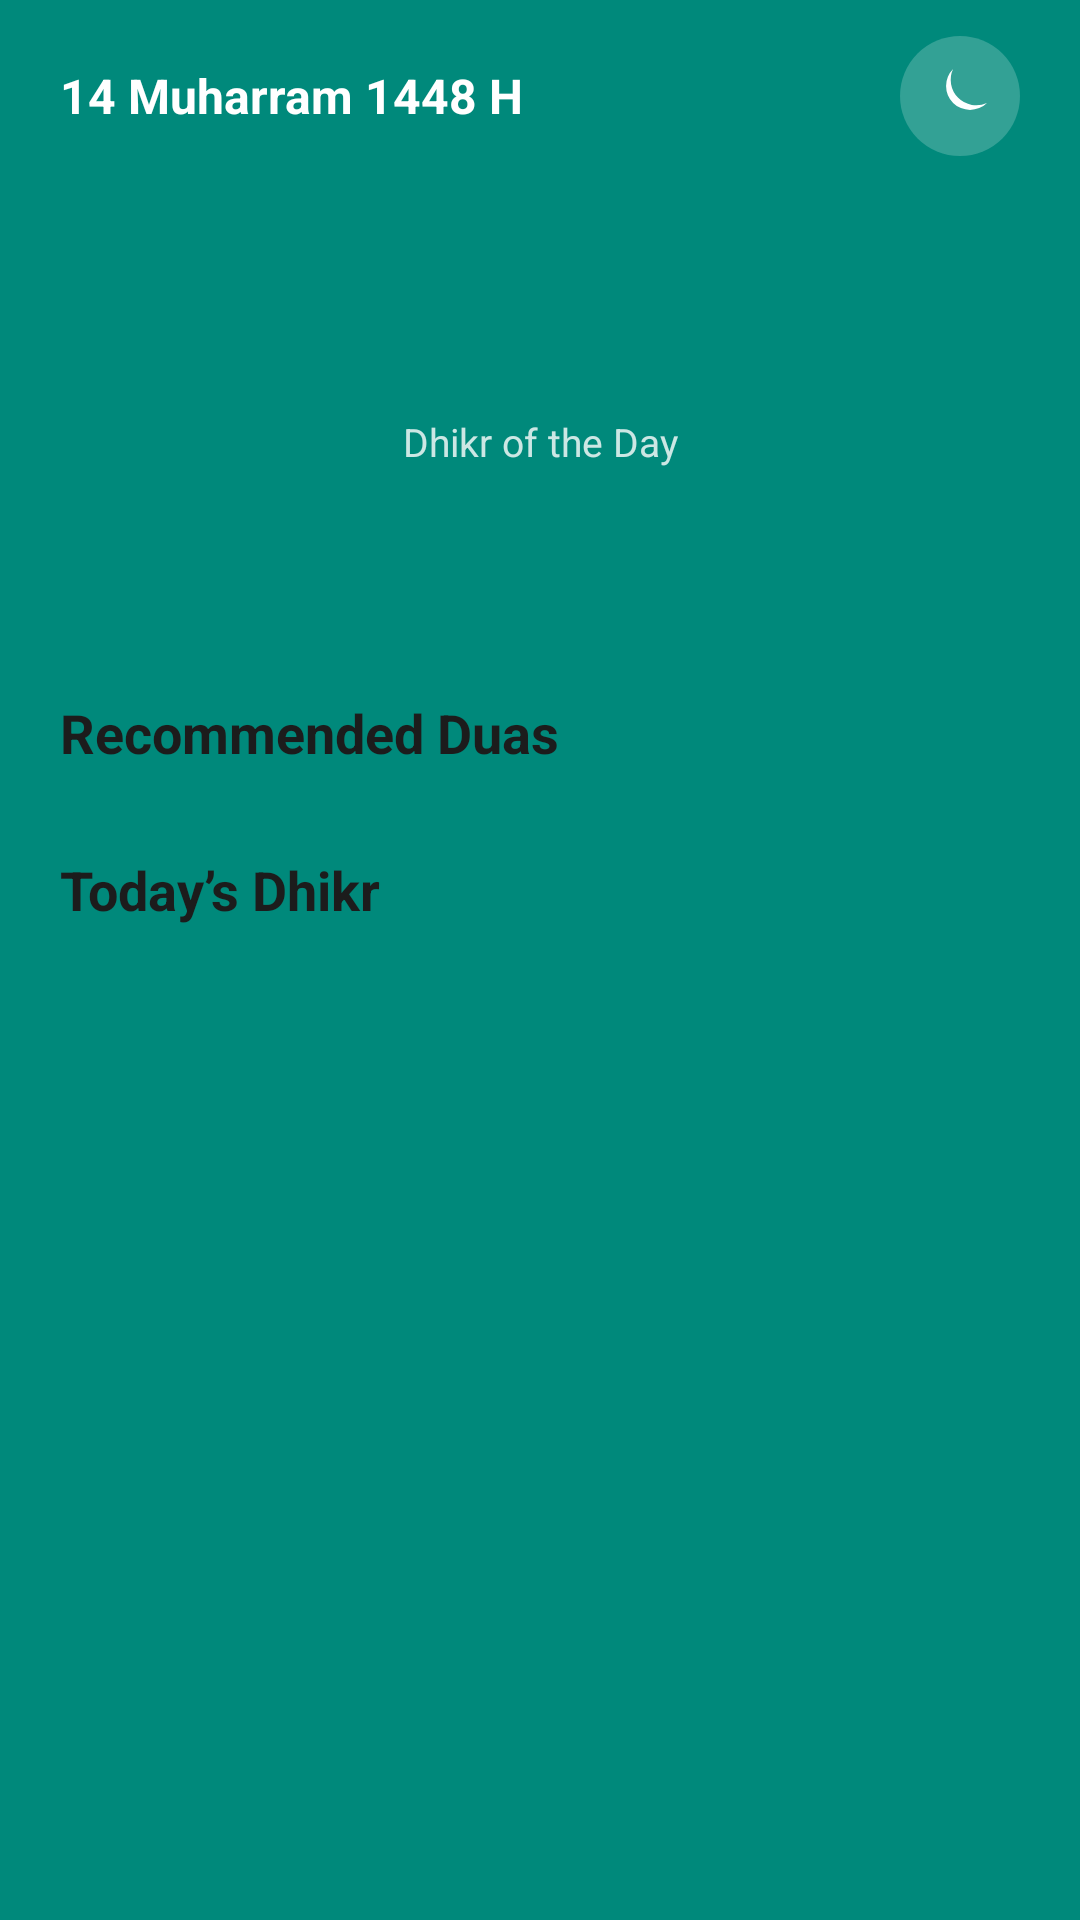

Named icons in this screenshot (1080px×1920px) and their centers, (x,y):
Toggle dark mode: (960,96)
